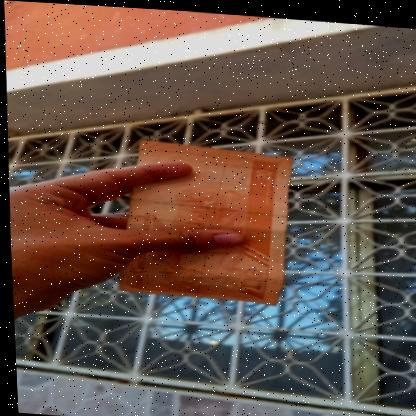twenty-back-vef: (109, 136, 296, 302)
